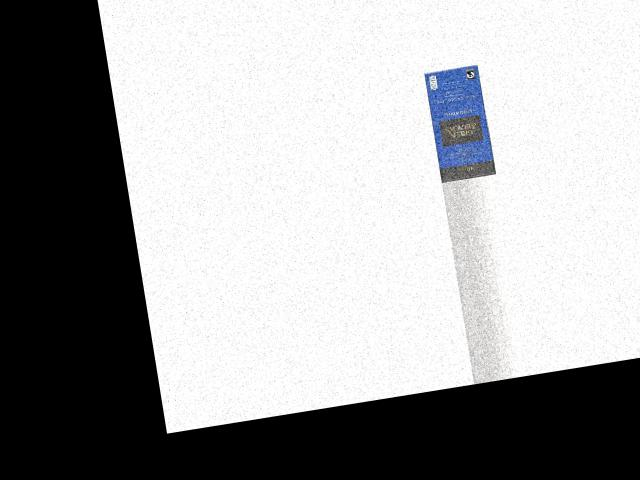chocolate: (423, 66, 496, 183)
